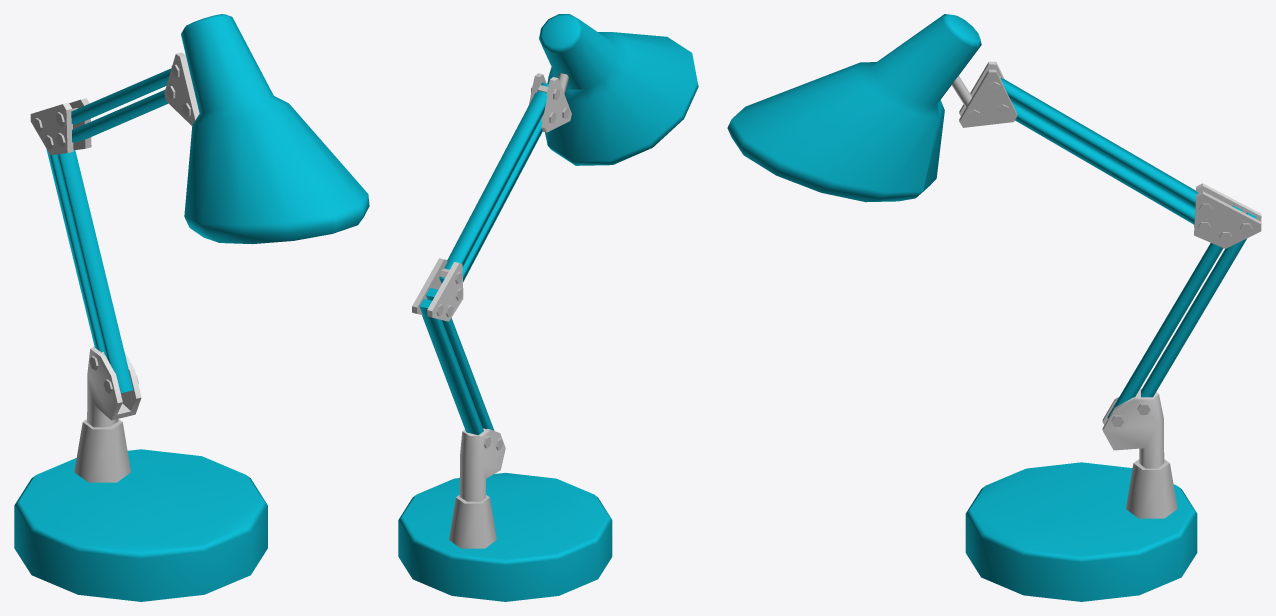
File: electronics_026.fbx
3 renders of one model, left to right at view 1: azimuth 30°, elevation 25°; view 2: azimuth 150°, elevation 25°; view 3: azimuth 270°, elevation 25°, orthographic. The views are drawn at different scales.
Parts seen in each view (by area): view 1: electronics_026; view 2: electronics_026; view 3: electronics_026.
Part boxes in pixels (bbox=[...]): electronics_026: bbox=[14, 14, 369, 601]; electronics_026: bbox=[398, 14, 698, 601]; electronics_026: bbox=[727, 14, 1261, 601].
Bounding box in the file's own units: 28.68 × 66.17 × 73.21.
